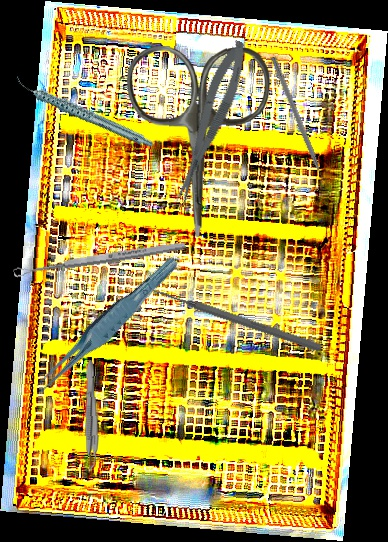Chopper: (263, 56, 329, 191)
Handpiece: (13, 51, 154, 173)
Iris Scissors: (124, 45, 271, 239)
Micro Scissor: (162, 36, 256, 210)
Pusher: (145, 282, 323, 354)
Surgical Spoon: (12, 239, 187, 279)
Tissue Forceps: (21, 255, 188, 398), (79, 360, 101, 473)
